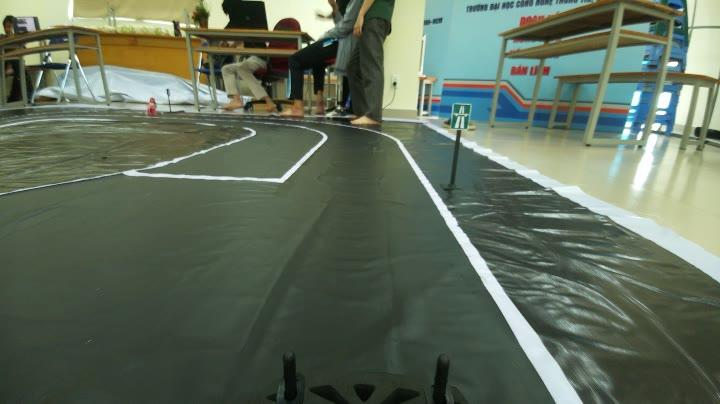highway_entry: (448, 99, 472, 140)
